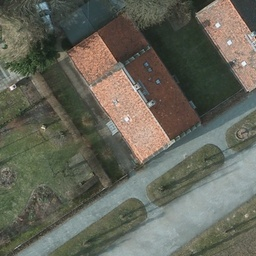car: (28, 2, 62, 36)
